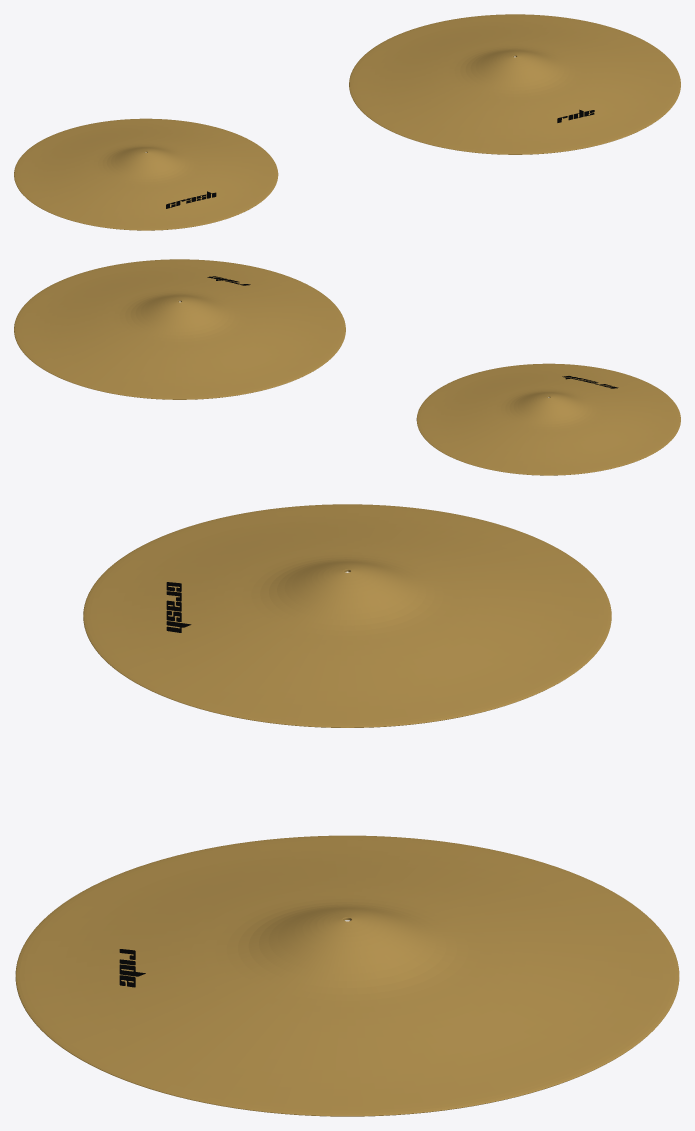
The model's file is Cymbals.fbx.
3 renders of one model, top to bottom at view 1: azimuth 30°, elevation 25°; view 2: azimuth 150°, elevation 25°; view 3: azimuth 270°, elevation 25°, orthographic. The views are drawn at different scales.
Visible parts, largest first — view 1: Ride_Cymbal, Crash_Cymbal; view 2: Ride_Cymbal, Crash_Cymbal; view 3: Ride_Cymbal, Crash_Cymbal.
Boxes of the visible parts, <box> form: Ride_Cymbal: <box>349,14,680,154</box>; Crash_Cymbal: <box>14,118,278,230</box>; Ride_Cymbal: <box>14,259,345,399</box>; Crash_Cymbal: <box>416,363,680,475</box>; Ride_Cymbal: <box>15,835,679,1116</box>; Crash_Cymbal: <box>83,504,611,727</box>.
Bounding box in the file's own units: 220 × 9.62 × 101.
